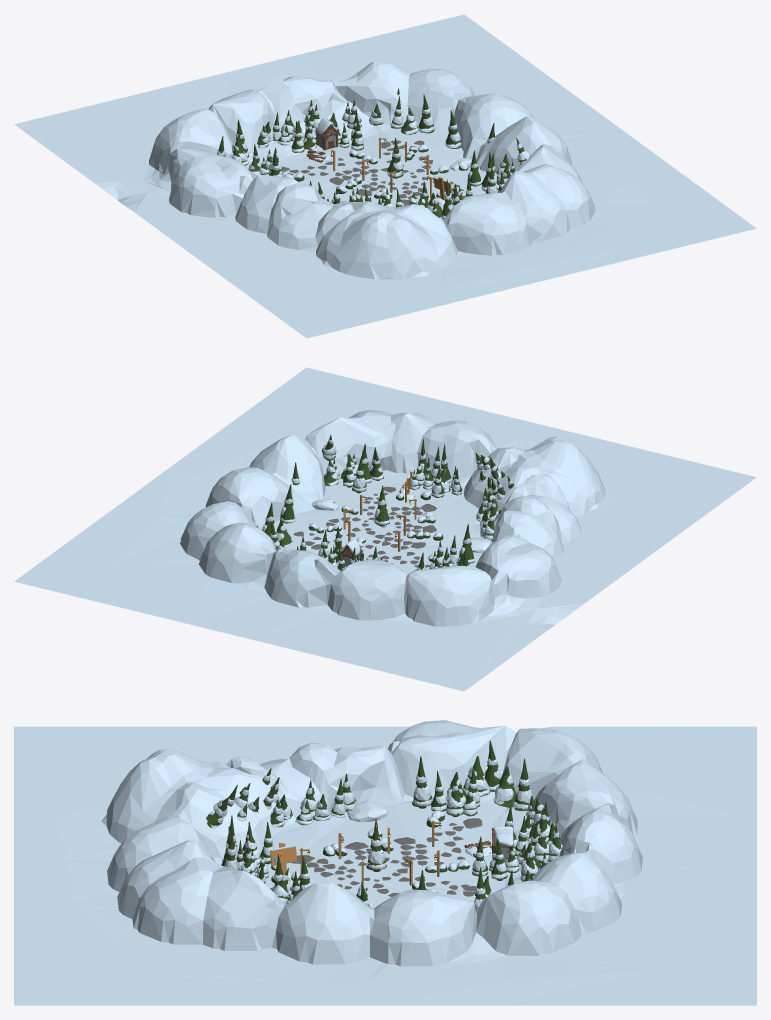
The model's file is environment.glb.
3 views of the same model, one above another, from view 1: azimuth 30°, elevation 25°; view 2: azimuth 150°, elevation 25°; view 3: azimuth 270°, elevation 25° (orthographic). The views are drawn at different scales.
Visible parts, largest first — view 1: terrain, house_type_11.001; view 2: terrain; view 3: terrain, house_type_3.003, Cylinder.121, Cylinder.107, Cylinder.171, house_type_11.001, Cylinder.122, Cube.341, Cylinder.123, Cylinder.124.
Part boxes in pixels (box(x1,y1,x2,y2)): terrain: box(14, 14, 756, 338); house_type_11.001: box(315, 118, 339, 150); terrain: box(14, 367, 756, 691); terrain: box(14, 720, 756, 1005); house_type_3.003: box(347, 800, 388, 822); Cylinder.121: box(493, 766, 516, 807); Cylinder.107: box(412, 756, 432, 808); Cylinder.171: box(366, 819, 386, 871); house_type_11.001: box(492, 826, 513, 862); Cylinder.122: box(513, 758, 532, 810); Cube.341: box(270, 842, 296, 874); Cylinder.123: box(463, 756, 490, 796); Cylinder.124: box(484, 740, 501, 791).
Bounding box in the file's own units: 66.95 × 7.6 × 75.35.
